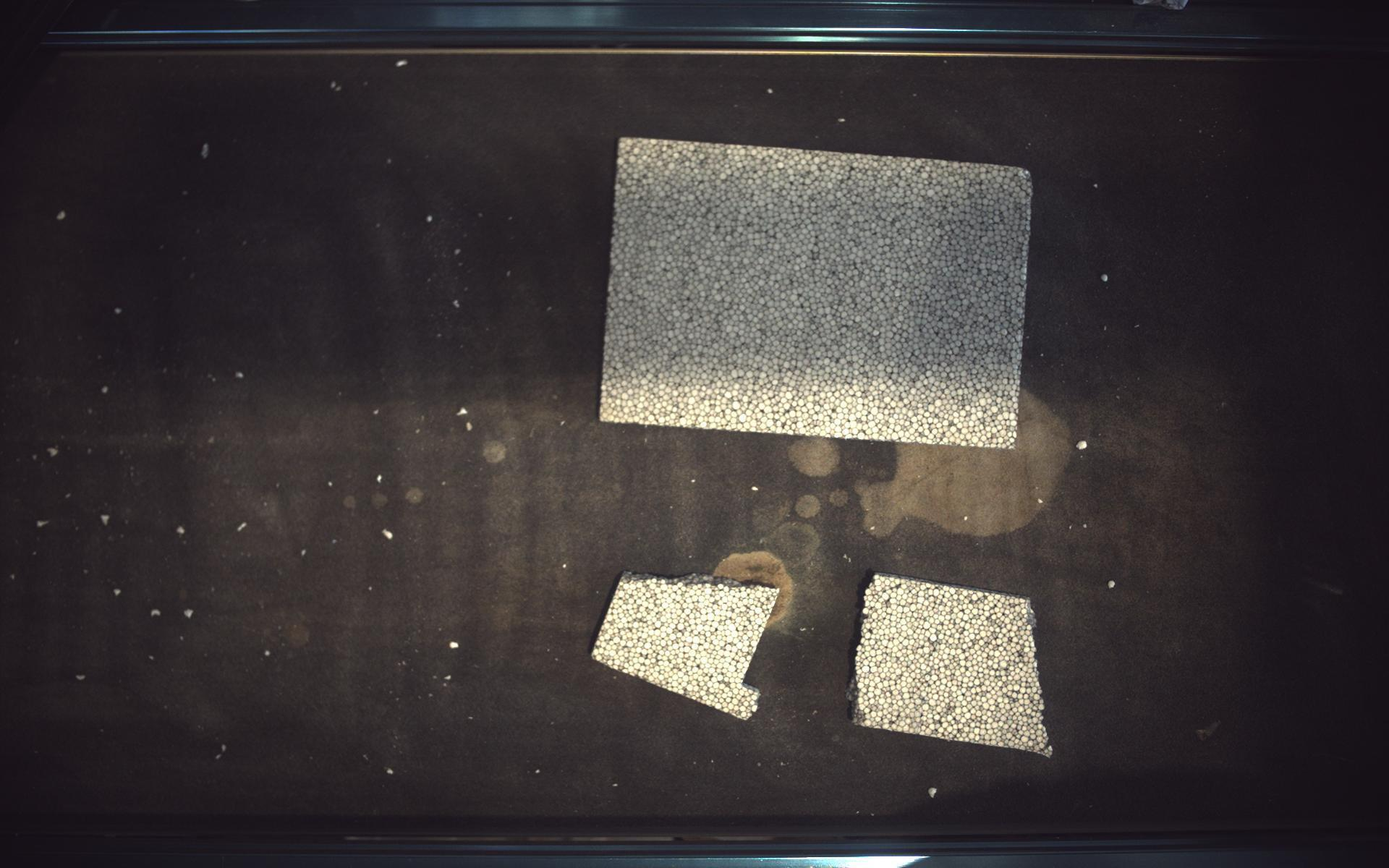foam: (600, 137, 1034, 448), (853, 574, 1055, 757), (592, 574, 781, 721)
